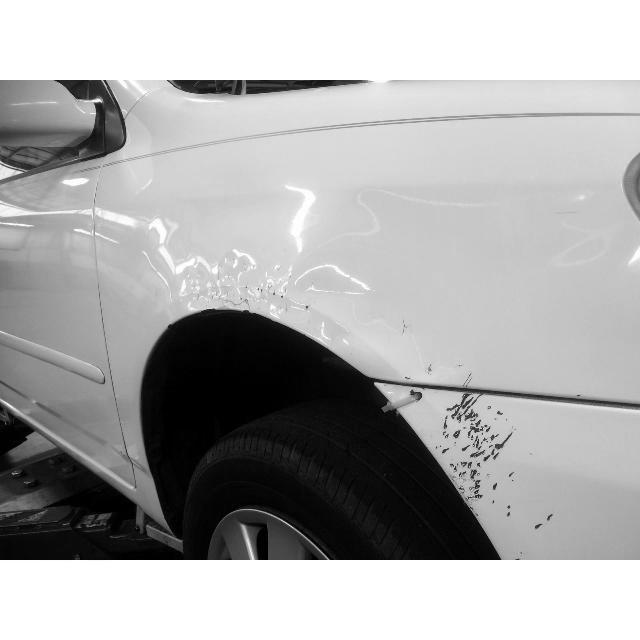fender-dent: (111, 168, 640, 409)
